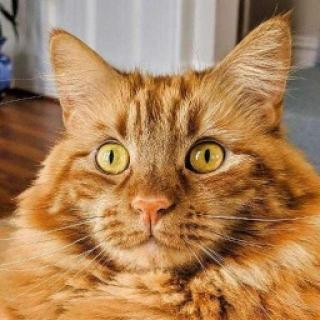cat: (41, 25, 305, 274)
nose: (126, 182, 177, 224)
